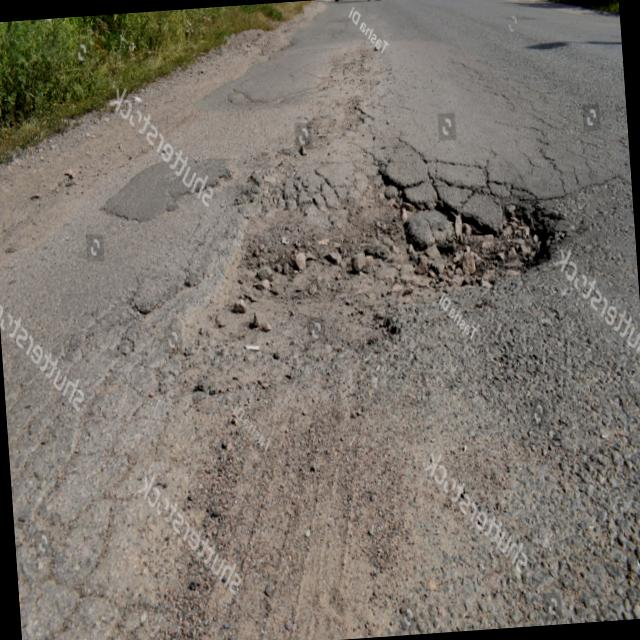bad-road: (171, 128, 567, 364)
